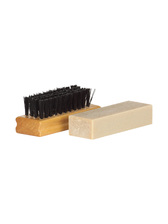other: (12, 85, 161, 148)
